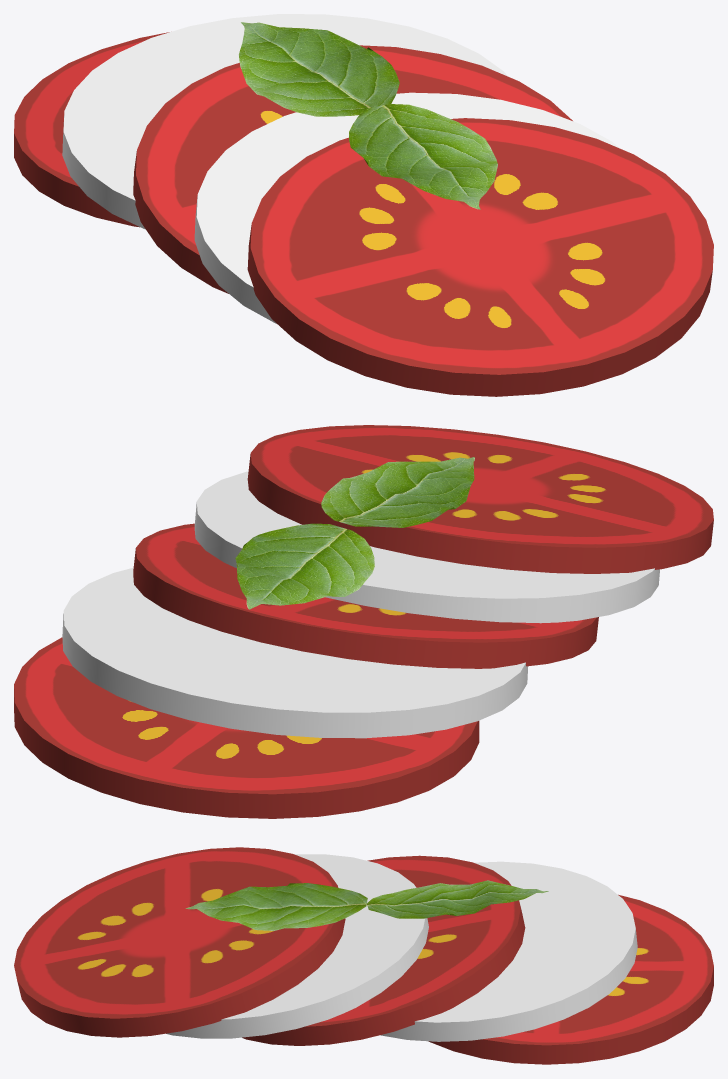
Rendered from caprese.gltf.
3 renders of one model, top to bottom at view 1: azimuth 30°, elevation 25°; view 2: azimuth 150°, elevation 25°; view 3: azimuth 270°, elevation 25°, orthographic. The views are drawn at different scales.
Parts seen in each view (by area): view 1: Circle.004, Circle.001, Circle.003, Circle.002, roslina.001, roslina.002, Circle; view 2: Circle.004, Circle, Circle.001, Circle.003, Circle.002, roslina.001, roslina.002; view 3: Circle.004, Circle.001, Circle, Circle.003, Circle.002, roslina.002, roslina.001.
Boxes of the visible parts, box(x1,y1,x2,y2) form: Circle.004: box(247, 118, 713, 396); Circle.001: box(62, 14, 507, 229); Circle.003: box(133, 45, 572, 293); Circle.002: box(194, 92, 619, 323); roslina.001: box(238, 22, 399, 116); roslina.002: box(349, 104, 497, 209); Circle: box(14, 32, 169, 227); Circle.004: box(247, 425, 713, 573); Circle: box(14, 637, 479, 818); Circle.001: box(62, 567, 527, 738); Circle.003: box(133, 523, 598, 668); Circle.002: box(194, 471, 659, 623); roslina.001: box(235, 523, 374, 609); roslina.002: box(321, 457, 474, 527); Circle.004: box(14, 847, 345, 1037); Circle.001: box(380, 861, 637, 1041); Circle: box(428, 894, 713, 1064); Circle.003: box(242, 855, 525, 1045); Circle.002: box(166, 854, 428, 1038); roslina.002: box(185, 883, 367, 930); roslina.001: box(367, 880, 548, 918).
Bounding box in the file's own units: 1.94 × 0.6029 × 3.61.
Materials: 3 (3 with a texture image).
